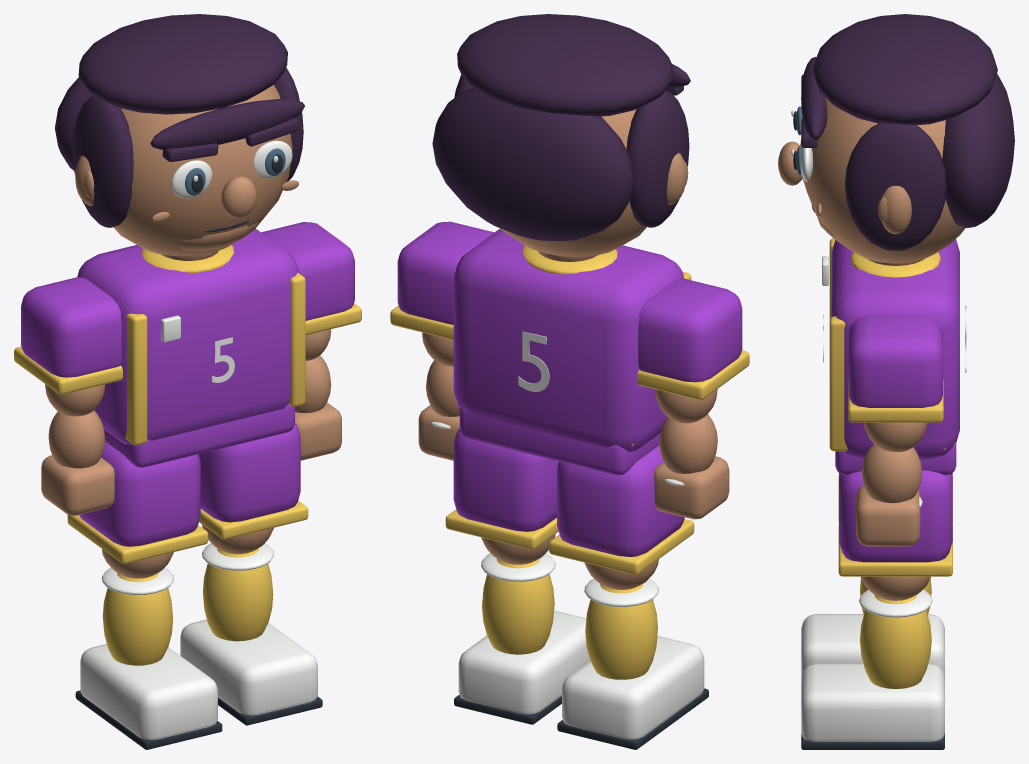
File: Mira.fbx
3 views of the same model, side by side, from view 1: azimuth 30°, elevation 25°; view 2: azimuth 150°, elevation 25°; view 3: azimuth 270°, elevation 25° (orthographic). The views are drawn at different scales.
Visible parts, largest first — view 1: Torso, HairCap, Head, Boot_Left, Boot_Right, Sleeve_Left, Shorts_Left, Shorts_Right, BobSide, Sleeve_Right, Sock_Left, Sock_Right (+29 smaller); view 2: Torso, BobBack, HairCap, Shorts_Left, Sleeve_Left, Boot_Left, Shorts_Right, Boot_Right, BobSide, Sleeve_Right, Sock_Right, Sock_Left (+21 smaller); view 3: HairCap, Torso, Boot_Right, BobSide.001, Sleeve_Right, BobBack, Head, Shorts_Right, Sock_Right, Boot_Left, Hand_Right, Forearm_Right (+12 smaller).
Boxes of the visible parts, <box> form: Torso: <box>77,228,299,444</box>; HairCap: <box>78,14,287,114</box>; Head: <box>113,84,292,256</box>; Boot_Left: <box>80,644,217,739</box>; Boot_Right: <box>180,619,317,715</box>; Sleeve_Left: <box>21,277,121,377</box>; Shorts_Left: <box>79,441,200,546</box>; Shorts_Right: <box>198,422,300,522</box>; BobSide: <box>72,95,133,227</box>; Sleeve_Right: <box>261,222,354,320</box>; Sock_Left: <box>102,572,172,665</box>; Sock_Right: <box>203,548,273,641</box>; Torso: <box>453,229,684,451</box>; BobBack: <box>432,88,634,241</box>; HairCap: <box>457,14,673,116</box>; Shorts_Left: <box>557,445,684,556</box>; Sleeve_Left: <box>638,278,742,382</box>; Boot_Left: <box>562,635,704,739</box>; Shorts_Right: <box>453,428,558,531</box>; Boot_Right: <box>458,610,589,714</box>; BobSide: <box>626,90,689,227</box>; Sleeve_Right: <box>397,221,493,324</box>; Sock_Right: <box>482,558,554,654</box>; Sock_Left: <box>585,584,657,679</box>; HairCap: <box>812,14,997,125</box>; Torso: <box>831,239,959,459</box>; Boot_Right: <box>801,663,944,741</box>; BobSide.001: <box>844,123,946,250</box>; Sleeve_Right: <box>848,315,942,407</box>; BobBack: <box>942,73,1014,227</box>; Head: <box>800,98,965,263</box>; Shorts_Right: <box>839,470,952,562</box>; Sock_Right: <box>860,595,931,688</box>; Boot_Left: <box>801,614,944,676</box>; Hand_Right: <box>856,485,920,546</box>; Forearm_Right: <box>861,444,922,503</box>.
Bounding box in the file's own units: 94 × 195 × 62.65.
